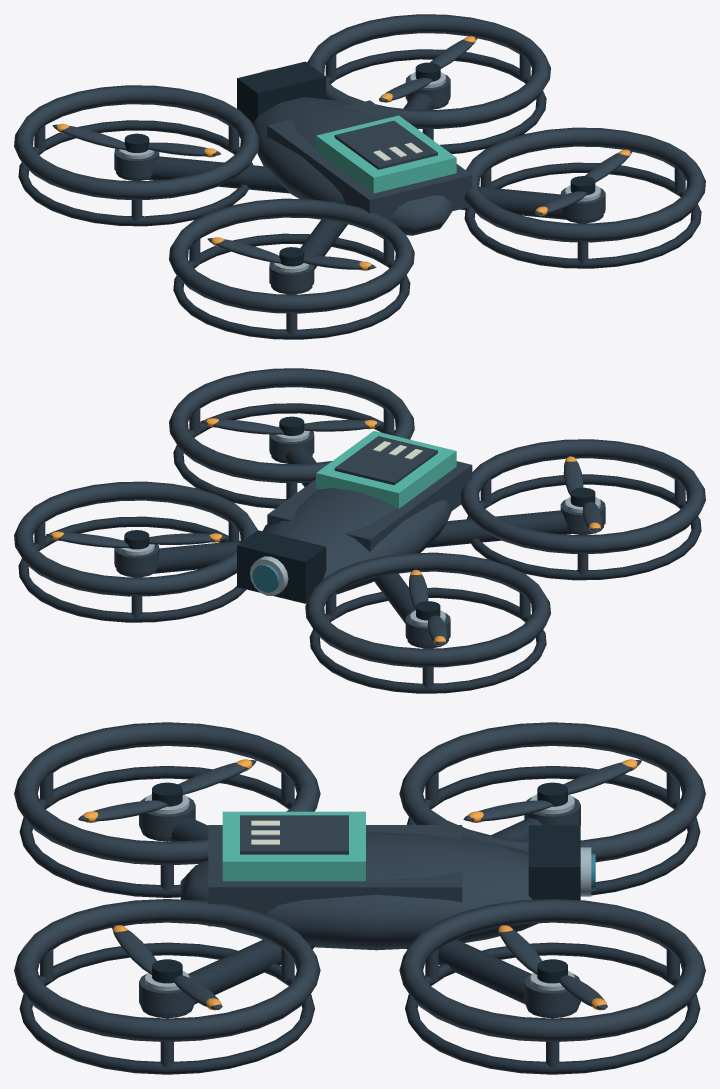
File: dji-avata-2.glb
The picture shows the model from 3 angles, top to bottom: view 1: azimuth 30°, elevation 25°; view 2: azimuth 150°, elevation 25°; view 3: azimuth 270°, elevation 25°; orthographic projection. The views are drawn at different scales.
Parts seen in each view (by area): view 1: part-frame-1, part-battery-10, part-payload-11, part-propeller-3, part-propeller-7, part-propeller-5, part-propeller-9, part-motor-6, part-motor-2, part-motor-8, part-motor-4; view 2: part-frame-1, part-battery-10, part-payload-11, part-propeller-5, part-propeller-9, part-propeller-7, part-propeller-3, part-motor-4, part-motor-8, part-motor-2, part-motor-6; view 3: part-frame-1, part-battery-10, part-payload-11, part-propeller-7, part-propeller-3, part-propeller-5, part-propeller-9, part-motor-4, part-motor-8, part-motor-6, part-motor-2.
Part boxes in pixels (x1,y1,x2,y2): part-frame-1: (14,14,705,339); part-battery-10: (316,115,456,193); part-payload-11: (237,61,326,123); part-propeller-3: (52,123,220,157); part-propeller-7: (207,237,376,270); part-propeller-5: (379,36,477,102); part-propeller-9: (534,149,632,215); part-motor-6: (269,262,314,290); part-motor-2: (114,148,159,177); part-motor-8: (560,185,605,219); part-motor-4: (405,72,450,105); part-frame-1: (14,368,705,693); part-battery-10: (316,431,456,508); part-payload-11: (237,530,326,603); part-propeller-5: (46,530,227,549); part-propeller-9: (201,416,382,435); part-propeller-7: (563,455,602,532); part-propeller-3: (409,569,447,645); part-motor-4: (114,539,159,573); part-motor-8: (269,426,314,459); part-motor-2: (405,610,450,644); part-motor-6: (560,497,605,531); part-frame-1: (14,722,705,1074); part-battery-10: (222,811,365,881); part-payload-11: (528,825,595,900); part-propeller-7: (78,759,256,822); part-propeller-3: (463,759,641,822); part-propeller-5: (497,924,607,1010); part-propeller-9: (112,924,222,1010); part-motor-4: (524,970,580,1013); part-motor-8: (139,971,195,1013); part-motor-6: (139,794,195,837); part-motor-2: (524,794,580,825).
Size of the model in its own units: 3.54 by 0.5485 by 3.38.
